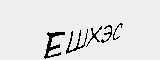Е: (45, 29, 64, 60)
С: (112, 21, 122, 42)
Х: (87, 22, 103, 47)
Ш: (64, 27, 88, 54)
Э: (102, 22, 115, 46)
